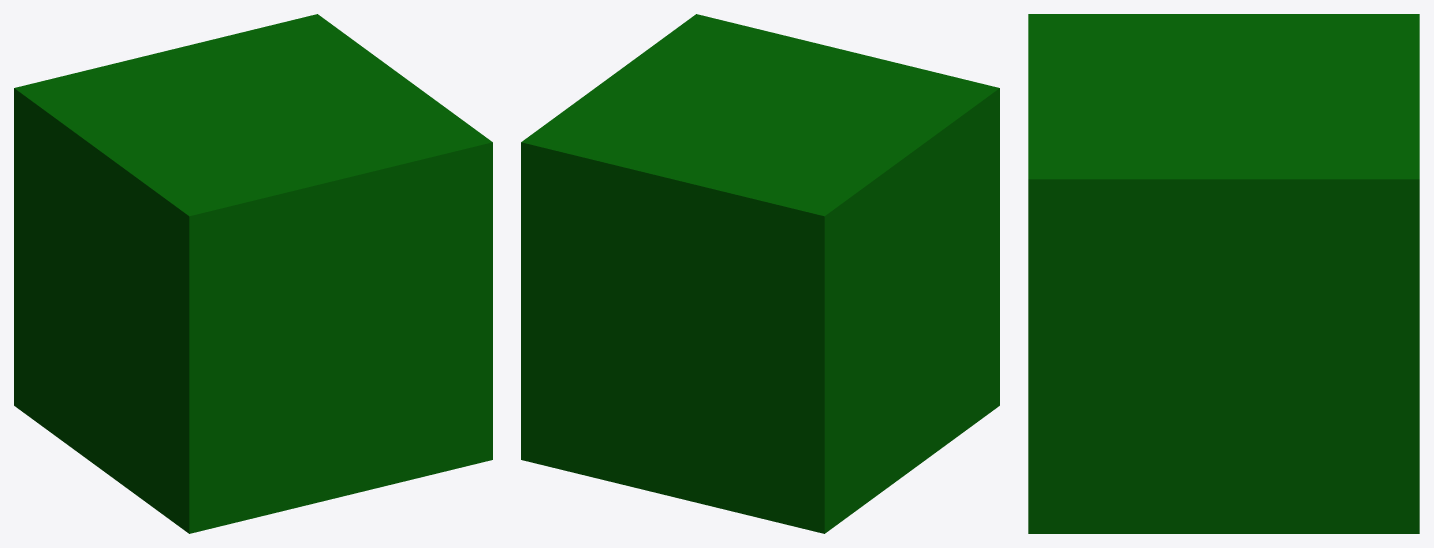
Rendered from Life.fbx.
3 views of the same model, side by side, from view 1: azimuth 30°, elevation 25°; view 2: azimuth 150°, elevation 25°; view 3: azimuth 270°, elevation 25° (orthographic). The views are drawn at different scales.
Visible parts, largest first — view 1: Wood; view 2: Wood; view 3: Wood.
Boxes of the visible parts, x1=… form: Wood: x1=14, y1=14, x2=492, y2=533; Wood: x1=521, y1=14, x2=999, y2=533; Wood: x1=1028, y1=14, x2=1419, y2=533.
Bounding box in the file's own units: 2 × 2 × 2.
